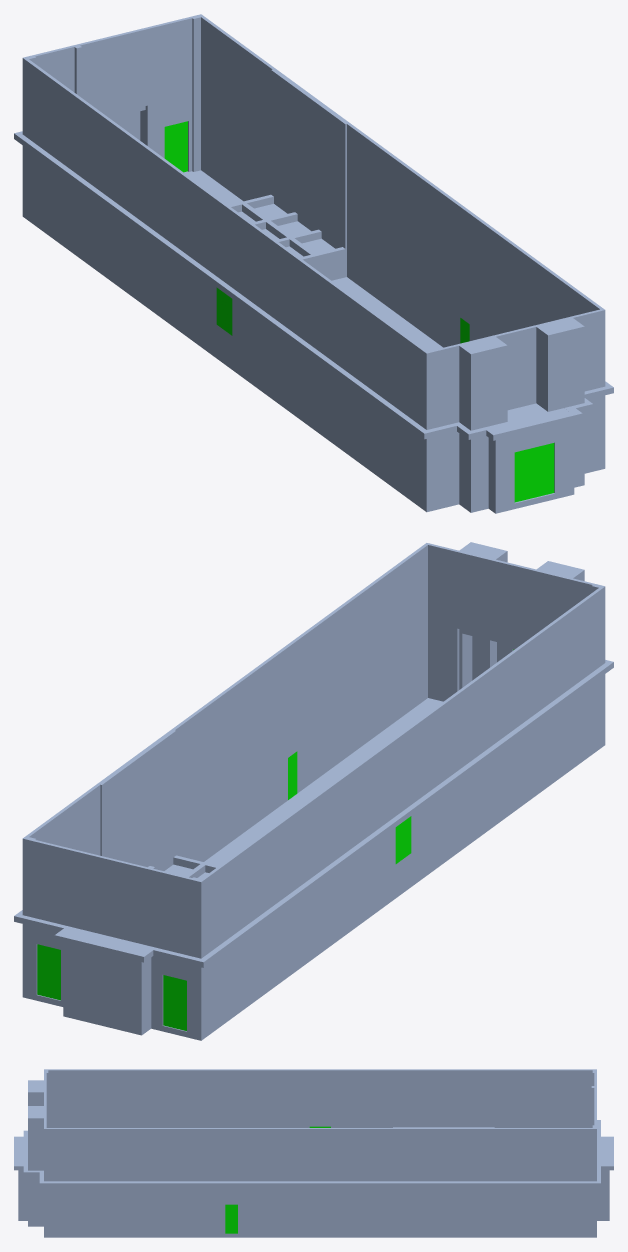
File: pump_house_expansion.glb
3 views of the same model, one above another, from view 1: azimuth 30°, elevation 25°; view 2: azimuth 150°, elevation 25°; view 3: azimuth 270°, elevation 25° (orthographic). The views are drawn at different scales.
Parts seen in each view (by area): view 1: Floor1; view 2: Floor1; view 3: Floor1.
Part boxes in pixels (x1,y1,x2,y2): Floor1: (14,14,613,513); Floor1: (14,542,613,1040); Floor1: (14,1069,613,1237).
Bounding box in the file's own units: 14 × 11.2 × 56.1.
